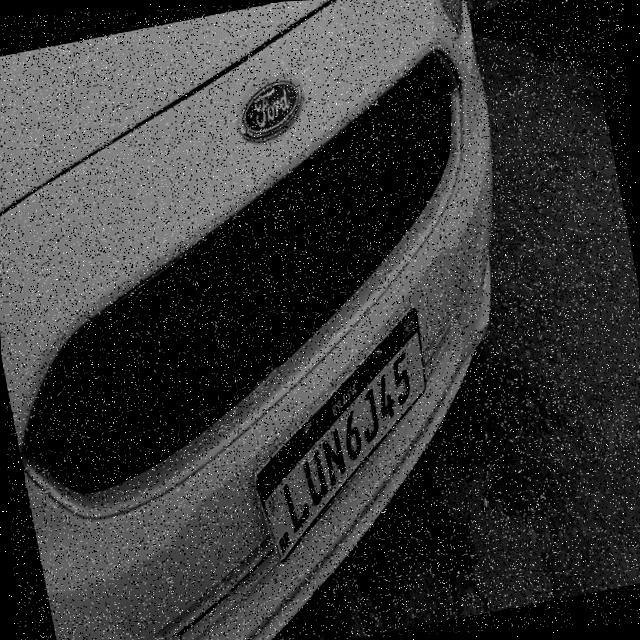Caractere: (299, 445, 331, 508), (280, 478, 314, 536), (317, 426, 348, 489), (354, 386, 384, 446), (388, 348, 416, 408), (338, 407, 366, 462), (372, 371, 398, 422)
